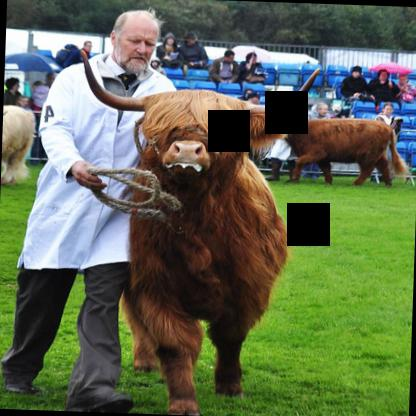handbag: (335, 96, 354, 119), (246, 75, 264, 84), (402, 92, 414, 101)
